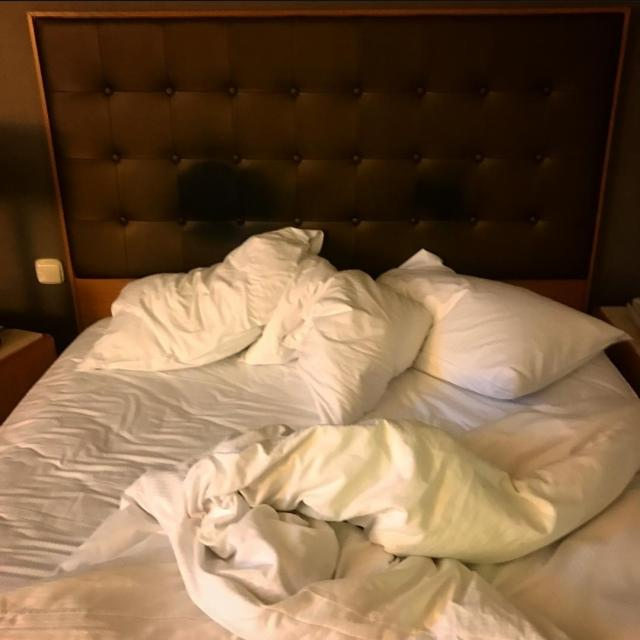bed: (34, 261, 639, 640)
